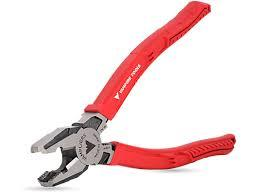pliers: (30, 0, 235, 193)
